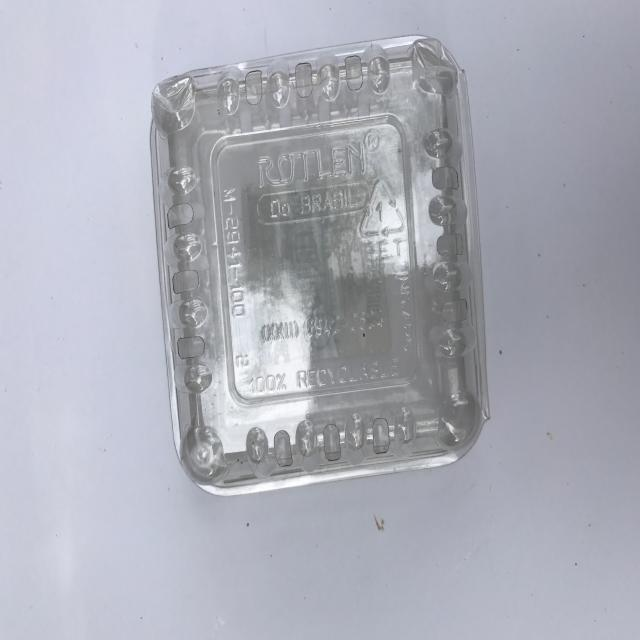plastic: (148, 36, 490, 496)
